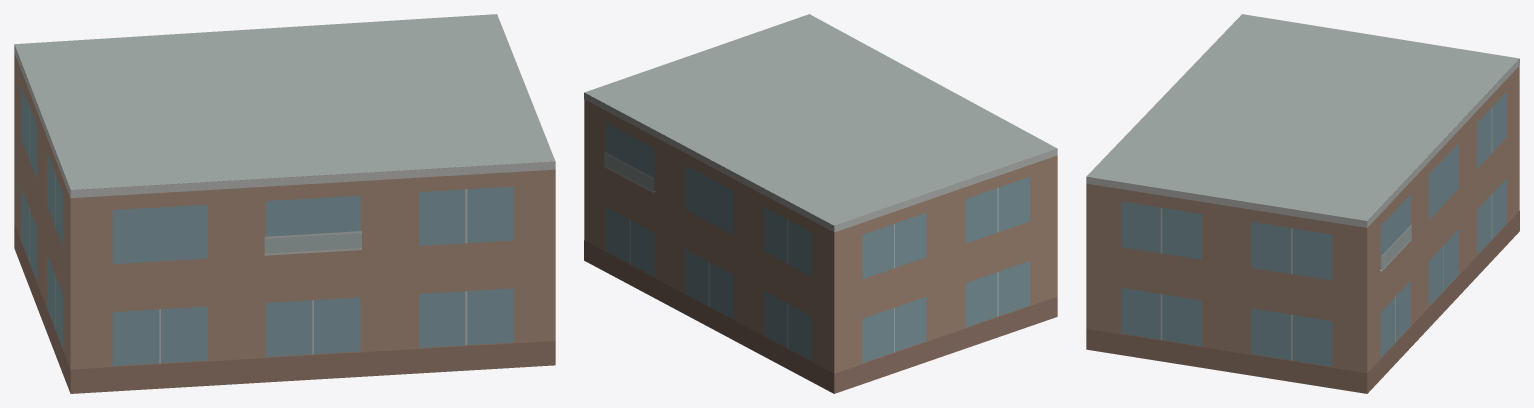
Rendered from survey-upis-32674754.glb.
3 renders of one model, left to right at view 1: azimuth 30°, elevation 25°; view 2: azimuth 150°, elevation 25°; view 3: azimuth 270°, elevation 25°, orthographic. The views are drawn at different scales.
Parts seen in each view (by area): view 1: survey-upis-32674754.tmp; view 2: survey-upis-32674754.tmp; view 3: survey-upis-32674754.tmp.
Part boxes in pixels (<box>): survey-upis-32674754.tmp: <box>14,14,555,393</box>; survey-upis-32674754.tmp: <box>584,14,1057,393</box>; survey-upis-32674754.tmp: <box>1086,14,1519,393</box>.
Size of the model in its own units: 15.68 by 6.1 by 13.88.
